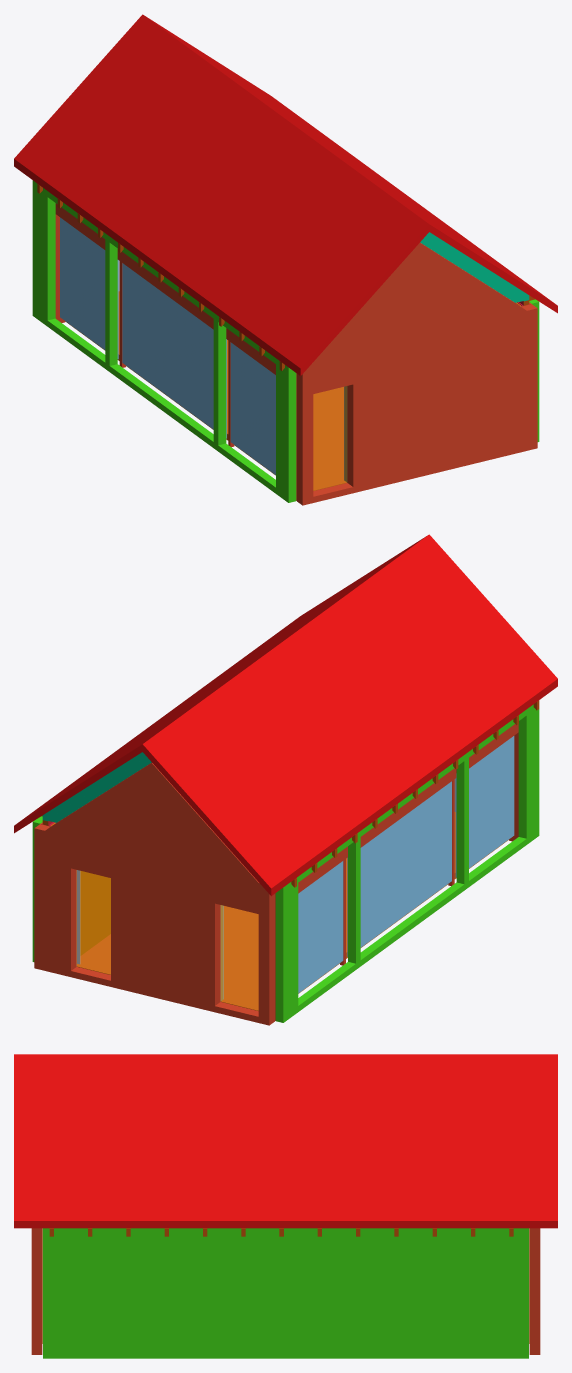
File: obyvak.glb
The picture shows the model from 3 angles, top to bottom: view 1: azimuth 30°, elevation 25°; view 2: azimuth 150°, elevation 25°; view 3: azimuth 270°, elevation 25°; orthographic projection. The views are drawn at different scales.
Visible parts, largest first — view 1: roofing, masonry (×2), glazing (×3), eps, floor, plenum_wool; view 2: roofing, masonry (×2), glazing (×3), eps, floor, furniture, plenum_wool; view 3: roofing, eps, masonry (×2).
Boxes of the visible parts, box(x1,y1,x2,y2) form: roofing: box(14, 14, 557, 376); masonry (×2): box(117, 242, 537, 505); glazing (×3): box(60, 217, 275, 474); eps: box(32, 180, 296, 502); floor: box(65, 291, 346, 490); plenum_wool: box(420, 232, 529, 302); roofing: box(14, 534, 557, 896); masonry (×2): box(34, 762, 456, 1025); glazing (×3): box(298, 736, 514, 993); eps: box(275, 704, 539, 1022); floor: box(77, 812, 508, 1010); furniture: box(80, 871, 110, 955); plenum_wool: box(42, 752, 151, 822); roofing: box(14, 1054, 557, 1228); eps: box(43, 1228, 528, 1358); masonry (×2): box(31, 1228, 540, 1354).
Size of the model in its own units: 6.44 by 6.21 by 12.43.
